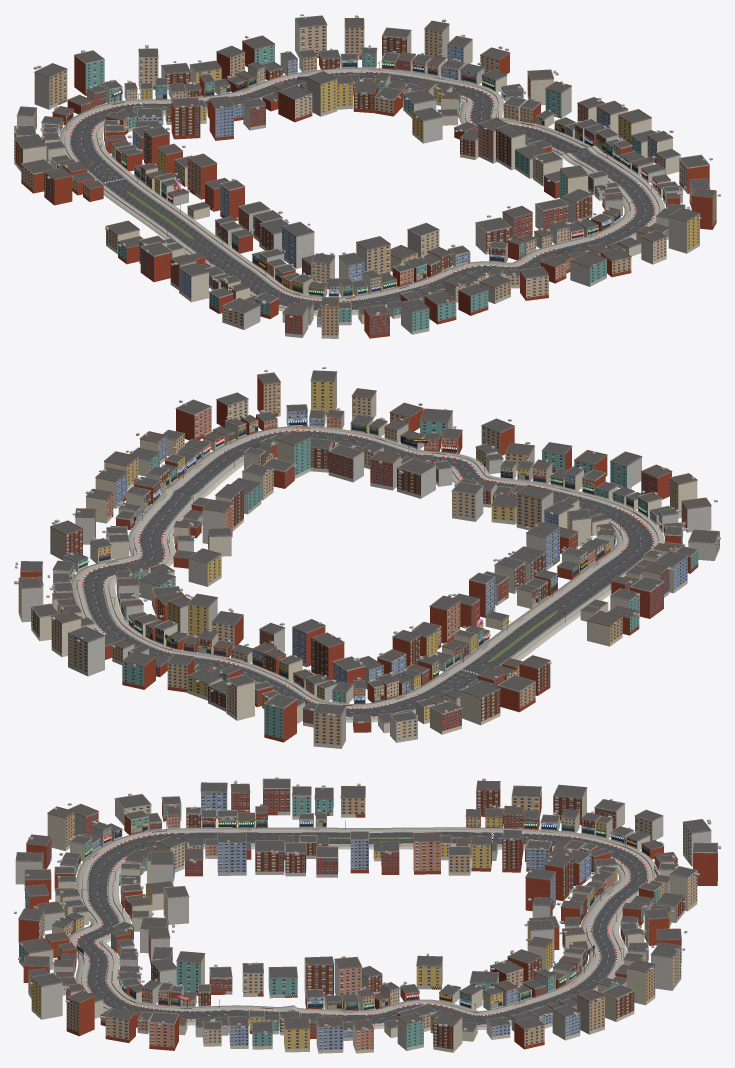
File: env_sweet.glb
3 renders of one model, top to bottom at view 1: azimuth 30°, elevation 25°; view 2: azimuth 150°, elevation 25°; view 3: azimuth 270°, elevation 25°, orthographic. The views are drawn at different scales.
Visible parts, largest first — view 1: city_buildings, city_trim, road, apron_1, apron_-1, sidewalk_1, sidewalk_-1, barrier_1, barrier_-1, gutter_1, gutter_-1; view 2: city_buildings, city_trim, road, apron_1, apron_-1, sidewalk_1, sidewalk_-1, barrier_1, barrier_-1, gutter_-1, gutter_1; view 3: city_buildings, city_trim, road, apron_-1, apron_1, sidewalk_1, sidewalk_-1, barrier_1, barrier_-1, gutter_1, gutter_-1, curb_-1.
Part boxes in pixels (<box>): city_buildings: <box>14,16,716,338</box>; city_trim: <box>14,14,720,318</box>; road: <box>70,72,654,310</box>; apron_1: <box>59,67,664,315</box>; apron_-1: <box>97,98,630,298</box>; sidewalk_1: <box>65,70,659,311</box>; sidewalk_-1: <box>93,80,634,300</box>; barrier_1: <box>64,69,659,312</box>; barrier_-1: <box>96,80,630,299</box>; gutter_1: <box>69,71,652,304</box>; gutter_-1: <box>92,84,632,299</box>; city_buildings: <box>18,371,719,748</box>; city_trim: <box>14,367,720,723</box>; road: <box>82,431,653,716</box>; apron_1: <box>71,426,664,722</box>; apron_-1: <box>109,444,622,705</box>; sidewalk_1: <box>78,428,658,718</box>; sidewalk_-1: <box>104,442,627,708</box>; barrier_1: <box>77,427,658,719</box>; barrier_-1: <box>108,443,623,706</box>; gutter_-1: <box>103,442,621,703</box>; gutter_1: <box>82,431,643,710</box>; city_buildings: <box>15,779,717,1053</box>; city_trim: <box>14,777,720,1035</box>; road: <box>77,832,647,1024</box>; apron_-1: <box>100,845,624,1012</box>; apron_1: <box>68,827,658,1029</box>; sidewalk_1: <box>72,830,652,1025</box>; sidewalk_-1: <box>95,843,629,1015</box>; barrier_1: <box>71,828,653,1026</box>; barrier_-1: <box>99,844,625,1013</box>; gutter_1: <box>84,831,638,1019</box>; gutter_-1: <box>99,843,623,1014</box>; curb_-1: <box>94,846,630,1015</box>.
Bounding box in the file's own units: 503 × 39.55 × 578.
Materials: 27 (11 with a texture image).
